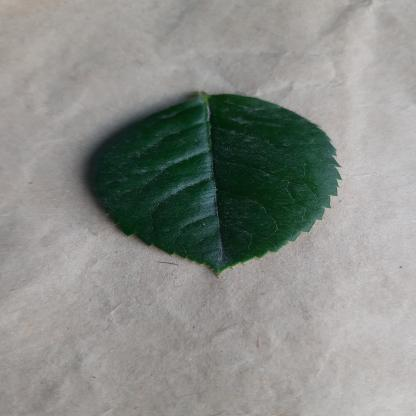normal: (80, 95, 360, 276)
